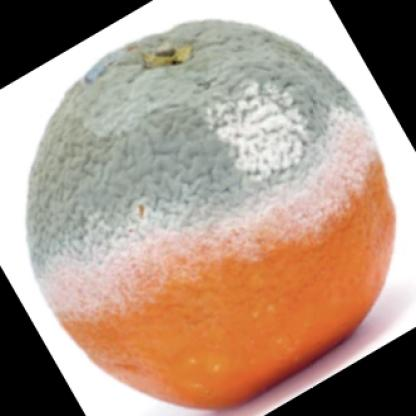rotten: (25, 20, 396, 410)
